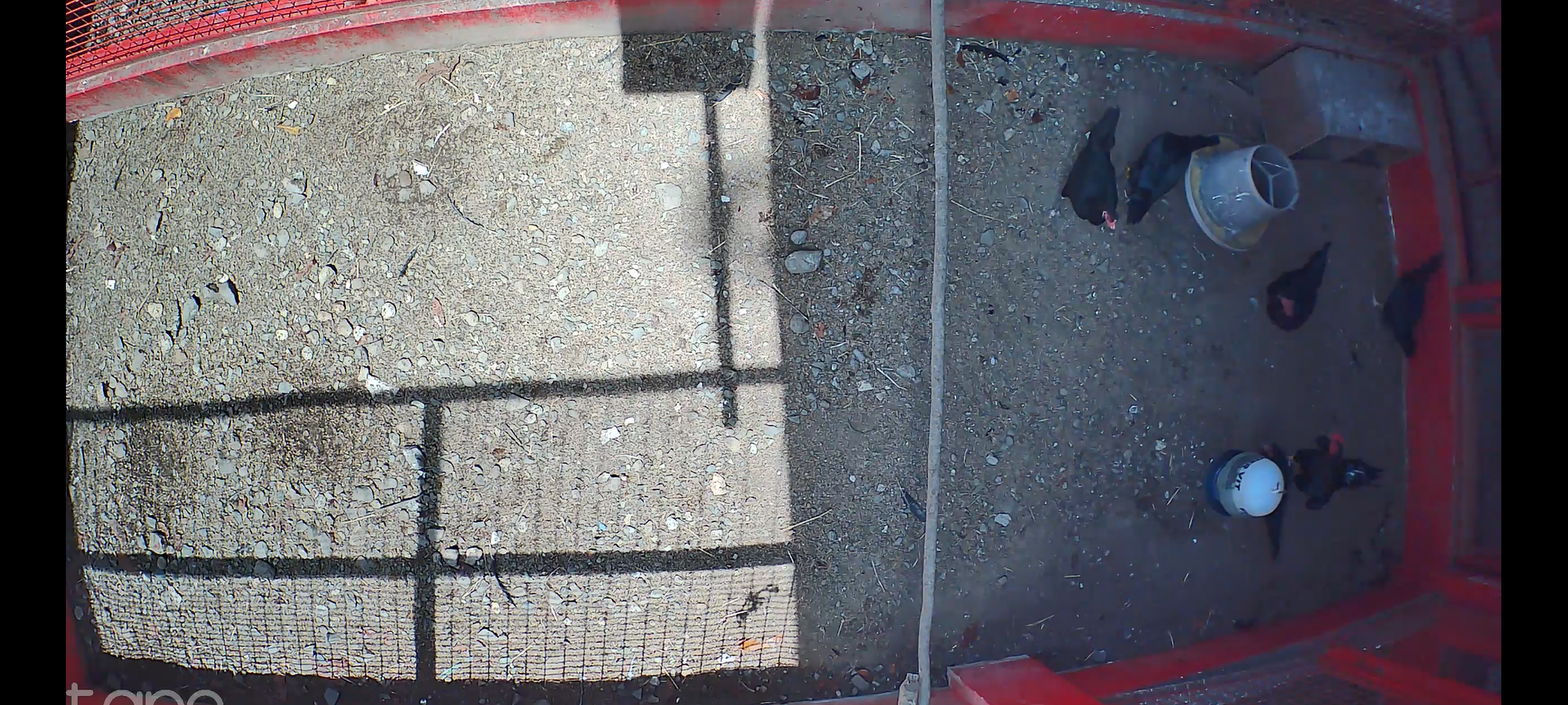Chicken: (1121, 126, 1224, 229), (1048, 104, 1120, 235), (1371, 244, 1444, 359), (1266, 237, 1332, 332), (1255, 441, 1289, 559)
Drinker: (1200, 447, 1287, 518)
Feeder: (1186, 128, 1301, 253)
Rooster: (1286, 428, 1389, 512)
